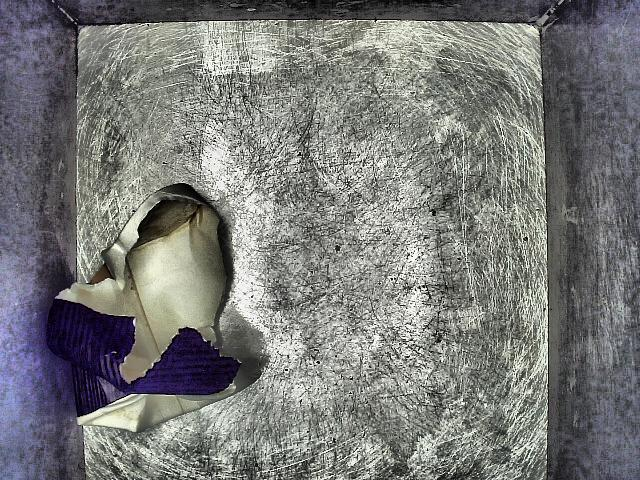Paper: (0, 172, 277, 479)
